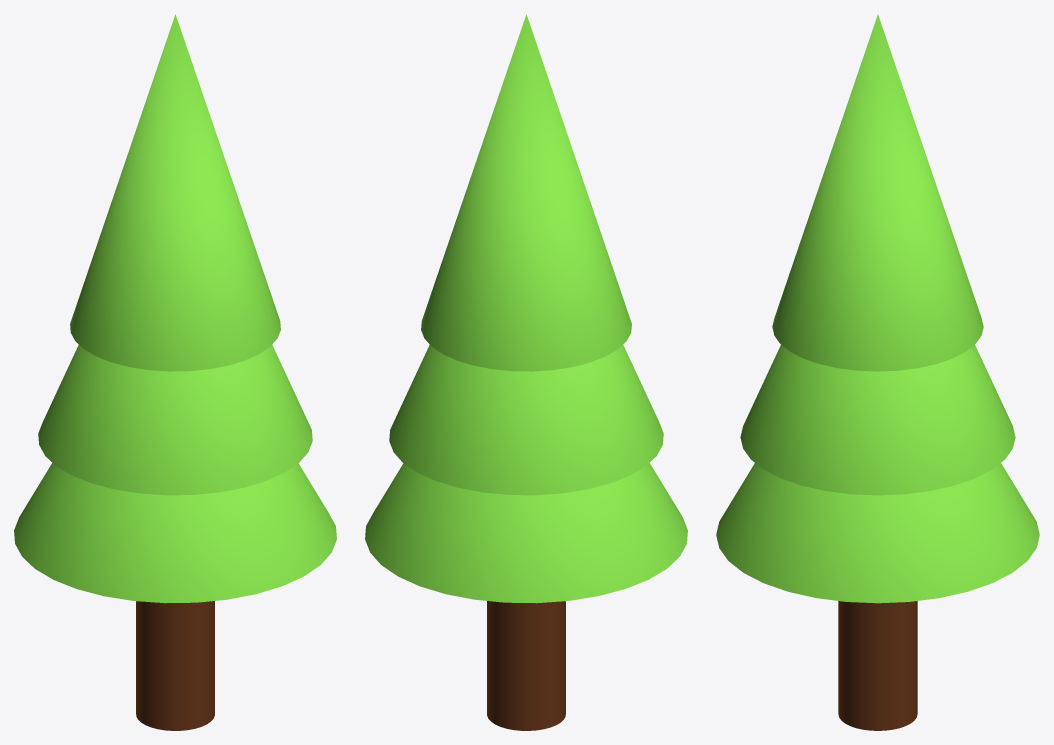
Rendered from smrek_1.fbx.
3 renders of one model, left to right at view 1: azimuth 30°, elevation 25°; view 2: azimuth 150°, elevation 25°; view 3: azimuth 270°, elevation 25°, orthographic.
Visible parts, largest first — view 1: Cone.001; view 2: Cone.001; view 3: Cone.001.
Part boxes in pixels (left/top/right/bottom): Cone.001: left=14, top=14, right=336, bottom=730; Cone.001: left=365, top=14, right=687, bottom=730; Cone.001: left=716, top=14, right=1039, bottom=730.
Size of the model in its own units: 488 by 488 by 1165.
